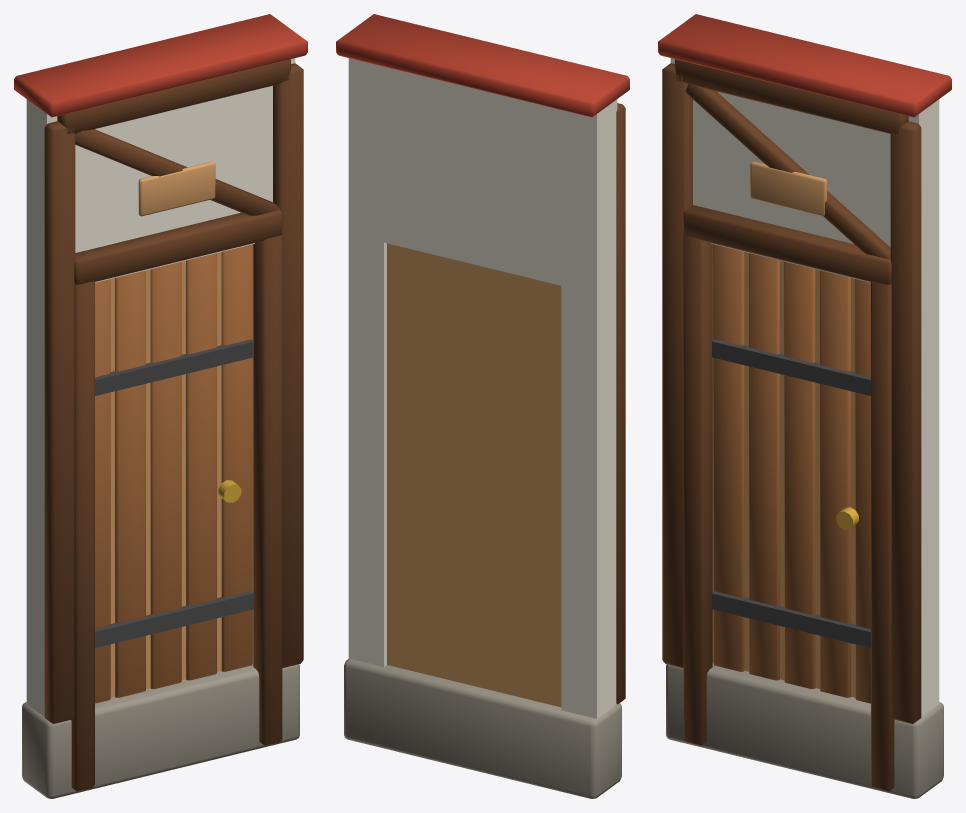
Rendered from parede_enxaimel_porta.glb.
3 views of the same model, side by side, from view 1: azimuth 30°, elevation 25°; view 2: azimuth 150°, elevation 25°; view 3: azimuth 330°, elevation 25° (orthographic).
Visible parts, largest first — view 1: Parede_Enxaimel_Porta; view 2: Parede_Enxaimel_Porta; view 3: Parede_Enxaimel_Porta.
Boxes of the visible parts, left/top/right/bottom form: Parede_Enxaimel_Porta: left=14, top=14, right=307, bottom=798; Parede_Enxaimel_Porta: left=336, top=14, right=629, bottom=798; Parede_Enxaimel_Porta: left=658, top=14, right=951, bottom=798.
Bounding box in the file's own units: 1.02 × 2.65 × 0.26.
